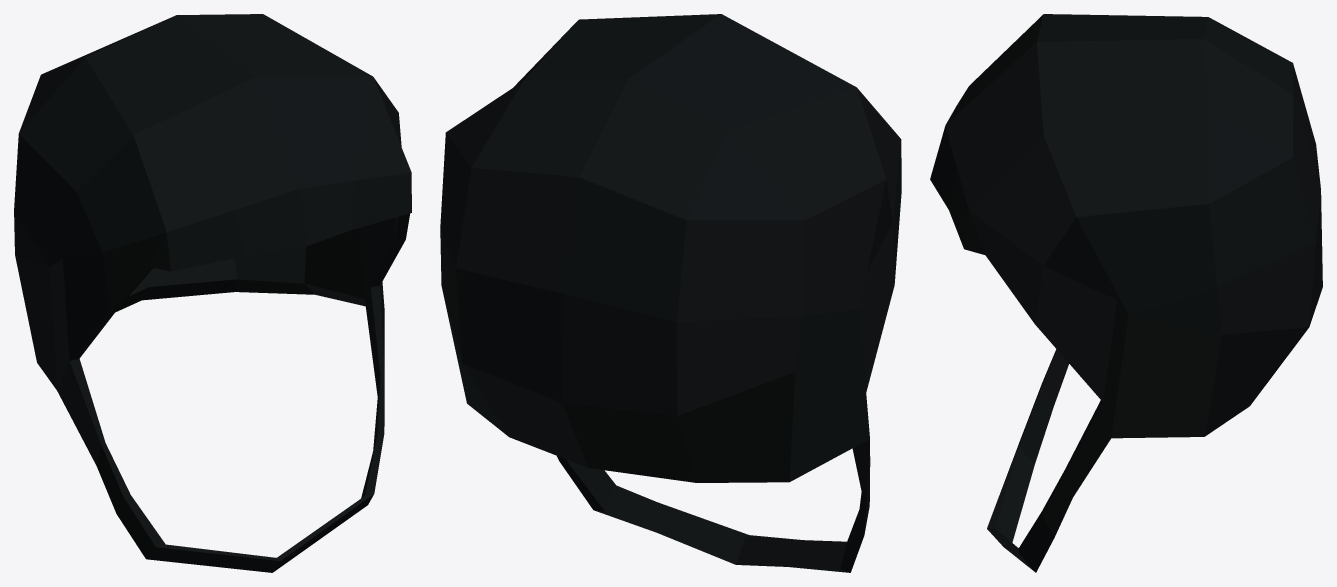
The model's file is Hockey_Player_2_Helmet.fbx.
3 renders of one model, left to right at view 1: azimuth 30°, elevation 25°; view 2: azimuth 150°, elevation 25°; view 3: azimuth 270°, elevation 25°, orthographic. The views are drawn at different scales.
Visible parts, largest first — view 1: Hockey_Player_2_Helmet; view 2: Hockey_Player_2_Helmet; view 3: Hockey_Player_2_Helmet.
Part boxes in pixels (x1,y1,x2,y2): Hockey_Player_2_Helmet: (14, 14, 411, 572); Hockey_Player_2_Helmet: (440, 14, 901, 572); Hockey_Player_2_Helmet: (930, 14, 1322, 572).
Size of the model in its own units: 22.4 by 31.86 by 22.33.
